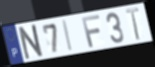3: (105, 12, 125, 45)
7: (41, 22, 60, 55)
F: (81, 13, 102, 49)
I: (62, 18, 75, 53)
N: (18, 22, 46, 61)
T: (124, 6, 141, 42)
